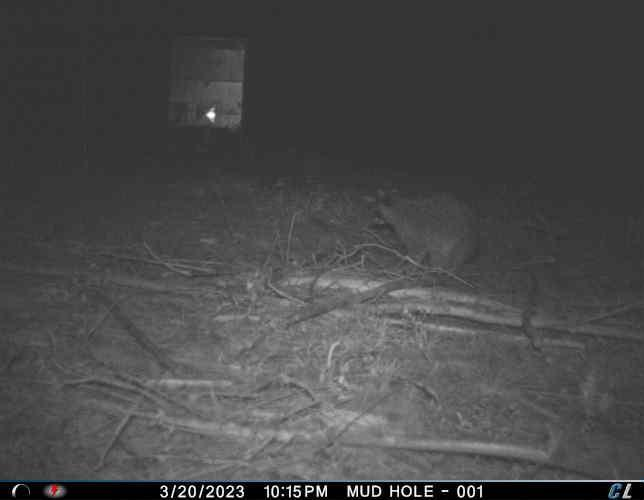Raccoon: (370, 181, 483, 275)
